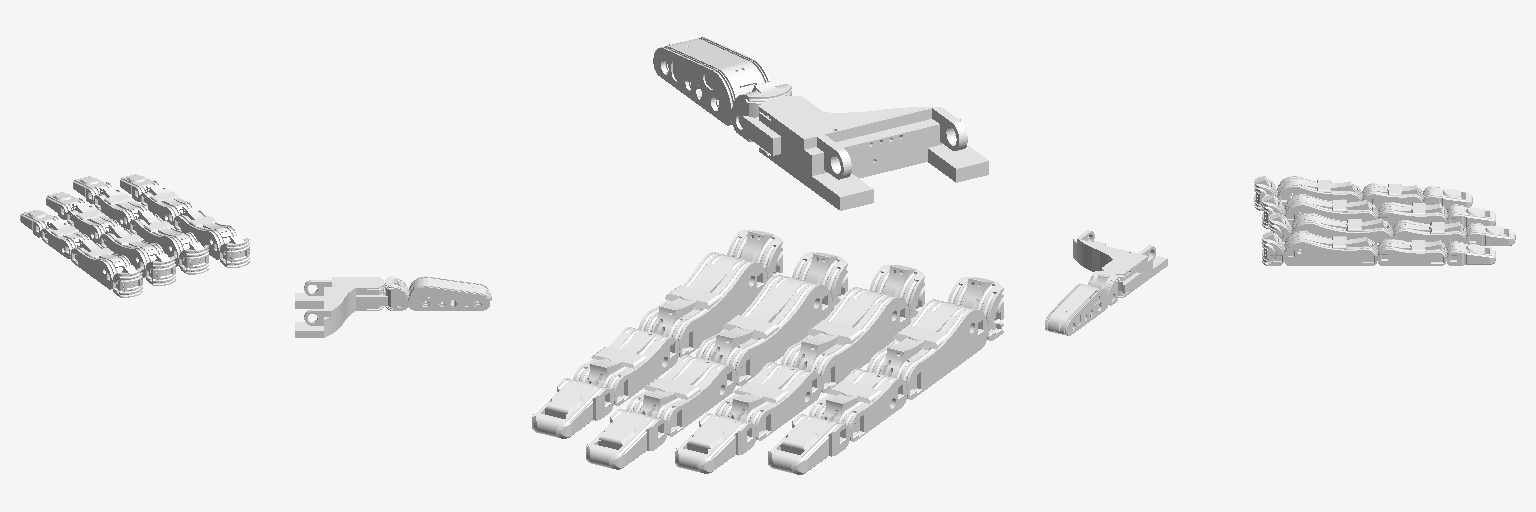
--- Facts derived from the render (not from the file) ---
The picture shows the robot from 3 angles, left to right: view 1: azimuth 30°, elevation 25°; view 2: azimuth 150°, elevation 25°; view 3: azimuth 270°, elevation 25°; orthographic projection.
Model converted_robot with 91 links and 90 joints (35 revolute, 55 fixed), rooted at world, posed all joints at 0.
Visible links, largest first — view 1: thumb_base, thumb_mp, middle_pp, pinky_pp, index_pp, ring_pp, middle_mp, ring_mp, index_mp, pinky_mp, pinky_um, ring_um (+7 smaller); view 2: thumb_base, middle_pp, ring_pp, index_pp, pinky_pp, thumb_mp, middle_mp, ring_mp, index_mp, pinky_mp, index_dp, middle_dp (+7 smaller); view 3: thumb_base, index_pp, thumb_mp, middle_pp, ring_pp, index_mp, pinky_pp, middle_mp, ring_mp, pinky_mp, index_dp, middle_dp (+4 smaller).
Boxes of the visible links, x1=… form: thumb_base: x1=295, y1=277, x2=387, y2=337; thumb_mp: x1=408, y1=276, x2=491, y2=310; middle_pp: x1=129, y1=211, x2=197, y2=266; pinky_pp: x1=70, y1=240, x2=130, y2=289; index_pp: x1=174, y1=207, x2=238, y2=259; ring_pp: x1=100, y1=225, x2=164, y2=277; middle_mp: x1=93, y1=187, x2=148, y2=229; ring_mp: x1=66, y1=203, x2=118, y2=243; index_mp: x1=140, y1=185, x2=192, y2=225; pinky_mp: x1=41, y1=220, x2=89, y2=258; pinky_um: x1=112, y1=265, x2=142, y2=297; ring_um: x1=145, y1=254, x2=175, y2=285; thumb_base: x1=743, y1=96, x2=988, y2=210; middle_pp: x1=696, y1=275, x2=831, y2=385; ring_pp: x1=781, y1=287, x2=909, y2=392; index_pp: x1=638, y1=252, x2=766, y2=357; pinky_pp: x1=866, y1=299, x2=987, y2=399; thumb_mp: x1=653, y1=37, x2=769, y2=125; middle_mp: x1=626, y1=355, x2=736, y2=436; ring_mp: x1=715, y1=362, x2=821, y2=440; index_mp: x1=573, y1=327, x2=679, y2=405; pinky_mp: x1=809, y1=368, x2=907, y2=441; index_dp: x1=532, y1=378, x2=614, y2=438; middle_dp: x1=586, y1=409, x2=667, y2=469; thumb_base: x1=1073, y1=230, x2=1167, y2=297; index_pp: x1=1284, y1=231, x2=1378, y2=265; thumb_mp: x1=1045, y1=283, x2=1108, y2=335; middle_pp: x1=1291, y1=213, x2=1393, y2=247; ring_pp: x1=1284, y1=194, x2=1378, y2=225; index_mp: x1=1377, y1=239, x2=1447, y2=265; pinky_pp: x1=1277, y1=176, x2=1362, y2=207; middle_mp: x1=1393, y1=220, x2=1466, y2=247; ring_mp: x1=1378, y1=202, x2=1447, y2=228; pinky_mp: x1=1362, y1=183, x2=1424, y2=209; index_dp: x1=1446, y1=241, x2=1495, y2=265; middle_dp: x1=1466, y1=223, x2=1515, y2=245.
Bounding box of the posed robot: 0.1606 × 0.2319 × 0.0157 m (x, y, z).
19 mesh visuals loaded from 20 distinct referenced files (19 binary STL); not drawn: 1 (reference not matched to a file when rendering).

robot.urdf — converted_robot:
<?xml version="1.0" ?>
<robot name="converted_robot">
   <link name="world">
      <inertial>
         <origin xyz="0.0 0.0 0.0" rpy="0.0 0.0 0.0"/>
         <mass value="0.0"/>
         <inertia ixx="0.0" iyy="0.0" izz="0.0" ixy="0" ixz="0" iyz="0"/>
      </inertial>
   </link>
   <link name="root">
      <inertial>
         <origin xyz="0.0 0.0 0.0" rpy="0.0 0.0 0.0"/>
         <mass value="0.0"/>
         <inertia ixx="0.0" iyy="0.0" izz="0.0" ixy="0" ixz="0" iyz="0"/>
      </inertial>
   </link>
   <link name="world2root_fixed_jointbody">
      <inertial>
         <origin xyz="0.0 0.0 0.0" rpy="0.0 0.0 0.0"/>
         <mass value="0.001"/>
         <inertia ixx="1e-09" iyy="1e-09" izz="1e-09" ixy="0" ixz="0" iyz="0"/>
      </inertial>
   </link>
   <joint type="fixed" name="world2root_fixed">
      <parent link="world"/>
      <child link="world2root_fixed_jointbody"/>
      <origin xyz="0.0 0.0 0.0" rpy="0.0 0.0 0.0"/>
   </joint>
   <joint type="fixed" name="world2root_fixed_offset">
      <parent link="world2root_fixed_jointbody"/>
      <child link="root"/>
      <origin xyz="-0.0 -0.0 -0.0" rpy="0.0 0.0 0.0"/>
   </joint>
   <link name="palm">
      <inertial>
         <origin xyz="-0.009750183589572366 0.04021403488529142 -0.00039237105510929893" rpy="2.3172560848423656 -1.562874237700241 2.192255222809746"/>
         <mass value="0.16567872925570942"/>
         <inertia ixx="0.0002358825828115673" iyy="0.00017096319828277548" izz="6.854952483029862e-05" ixy="0" ixz="0" iyz="0"/>
      </inertial>
      <visual name="palm_tower">
         <origin xyz="-0.009750183589572366 0.04021403488529142 -0.00039237105510929893" rpy="2.3172560848423656 -1.562874237700241 2.192255222809746"/>
         <geometry>
            <mesh filename="package://viz/models/URDF_Simulation/converted_palm_tower.stl"/>
         </geometry>
         <material name="white"/>
      </visual>
   </link>
   <link name="root2palm_fixed_jointbody">
      <inertial>
         <origin xyz="0.0 0.0 0.0" rpy="0.0 0.0 0.0"/>
         <mass value="0.001"/>
         <inertia ixx="1e-09" iyy="1e-09" izz="1e-09" ixy="0" ixz="0" iyz="0"/>
      </inertial>
   </link>
   <joint type="fixed" name="root2palm_fixed">
      <parent link="root"/>
      <child link="root2palm_fixed_jointbody"/>
      <origin xyz="0.0 0.0 0.0" rpy="0.0 0.0 0.0"/>
   </joint>
   <joint type="fixed" name="root2palm_fixed_offset">
      <parent link="root2palm_fixed_jointbody"/>
      <child link="palm"/>
      <origin xyz="-0.0 -0.0 -0.0" rpy="0.0 0.0 0.0"/>
   </joint>
   <link name="thumb_base">
      <inertial>
         <origin xyz="-0.05388722858794558 -0.08972924545530461 0.0056400640968846715" rpy="1.1981321937913658 -1.4948979105066997 0.7661853183228452"/>
         <mass value="0.015400950262490496"/>
         <inertia ixx="4.057013831282678e-06" iyy="3.3189900464939896e-06" izz="1.0886313012479005e-06" ixy="0" ixz="0" iyz="0"/>
      </inertial>
      <visual name="thumb_base">
         <origin xyz="-0.05388722858794558 -0.08972924545530461 0.0056400640968846715" rpy="1.1981321937913676 -1.4948979105066995 0.7661853183228434"/>
         <geometry>
            <mesh filename="package://viz/models/URDF_Simulation/converted_thumb_base.stl"/>
         </geometry>
         <material name="white"/>
      </visual>
   </link>
   <link name="root2thumb_base_jointbody">
      <inertial>
         <origin xyz="0.0 0.0 0.0" rpy="0.0 0.0 0.0"/>
         <mass value="0.001"/>
         <inertia ixx="1e-09" iyy="1e-09" izz="1e-09" ixy="0" ixz="0" iyz="0"/>
      </inertial>
   </link>
   <joint type="revolute" name="root2thumb_base">
      <parent link="palm"/>
      <child link="root2thumb_base_jointbody"/>
      <origin xyz="0.01810025051214078 0.00810024353395844 0.002000000000000001" rpy="0.0 0.0 1.5707999999999998"/>
      <axis xyz="0.872045190552692 -0.48942536267945813 0.0"/>
      <limit lower="-2.27" upper="0.0" effort="100" velocity="100"/>
   </joint>
   <joint type="fixed" name="root2thumb_base_offset">
      <parent link="root2thumb_base_jointbody"/>
      <child link="thumb_base"/>
      <origin xyz="0.0682 0.0663 -0.009" rpy="0.0 0.0 0.0"/>
   </joint>
   <link name="thumb_pp">
      <inertial>
         <origin xyz="-0.06002974424873159 -0.11906183356660797 0.0062186112018148216" rpy="-0.0012484400387758887 0.391076545340286 1.0465689521908192"/>
         <mass value="0.0020561829545655487"/>
         <inertia ixx="5.3193394084926844e-08" iyy="4.4699706473833634e-08" izz="4.1958930900945313e-08" ixy="0" ixz="0" iyz="0"/>
      </inertial>
      <visual name="thumb_pp">
         <origin xyz="-0.06002974424873159 -0.11906183356660797 0.0062186112018148216" rpy="-0.0012484400387758887 0.391076545340286 1.0465689521908192"/>
         <geometry>
            <mesh filename="package://viz/models/URDF_Simulation/converted_thumb_pp.stl"/>
         </geometry>
         <material name="white"/>
      </visual>
   </link>
   <link name="thumb_base2pp_jointbody">
      <inertial>
         <origin xyz="0.0 0.0 0.0" rpy="0.0 0.0 0.0"/>
         <mass value="0.001"/>
         <inertia ixx="1e-09" iyy="1e-09" izz="1e-09" ixy="0" ixz="0" iyz="0"/>
      </inertial>
   </link>
   <joint type="revolute" name="thumb_base2pp">
      <parent link="thumb_base"/>
      <child link="thumb_base2pp_jointbody"/>
      <origin xyz="-0.05696 -0.11383 0.0" rpy="0.0 0.0 0.0"/>
      <axis xyz="0.0 0.0 1.0"/>
      <limit lower="-0.523599" upper="0.523599" effort="100" velocity="100"/>
   </joint>
   <joint type="fixed" name="thumb_base2pp_offset">
      <parent link="thumb_base2pp_jointbody"/>
      <child link="thumb_pp"/>
      <origin xyz="0.05696 0.11383 -0.0" rpy="0.0 0.0 0.0"/>
   </joint>
   <link name="thumb_mp">
      <inertial>
         <origin xyz="-0.07285929044573305 -0.14133795432320076 0.00551798779969882" rpy="2.9311721332498637 -1.5138717843315774 -1.881310598490373"/>
         <mass value="0.007559331420198066"/>
         <inertia ixx="9.573996733464855e-07" iyy="9.284932904903027e-07" izz="1.7221260520814514e-07" ixy="0" ixz="0" iyz="0"/>
      </inertial>
      <visual name="thumb_mp">
         <origin xyz="-0.07285929044573305 -0.14133795432320076 0.00551798779969882" rpy="2.9311721332498664 -1.5138717843315772 -1.8813105984903749"/>
         <geometry>
            <mesh filename="package://viz/models/URDF_Simulation/converted_thumb_mp.stl"/>
         </geometry>
         <material name="white"/>
      </visual>
   </link>
   <link name="thumb_pp2mp_jointbody">
      <inertial>
         <origin xyz="0.0 0.0 0.0" rpy="0.0 0.0 0.0"/>
         <mass value="0.001"/>
         <inertia ixx="1e-09" iyy="1e-09" izz="1e-09" ixy="0" ixz="0" iyz="0"/>
      </inertial>
   </link>
   <joint type="revolute" name="thumb_pp2mp">
      <parent link="thumb_pp"/>
      <child link="thumb_pp2mp_jointbody"/>
      <origin xyz="-0.062947 -0.124166 0.004" rpy="0.0 0.0 0.0"/>
      <axis xyz="0.872045190552692 -0.48942536267945813 0.0"/>
      <limit lower="-1.5708" upper="0.0" effort="100" velocity="100"/>
   </joint>
   <joint type="fixed" name="thumb_pp2mp_offset">
      <parent link="thumb_pp2mp_jointbody"/>
      <child link="thumb_mp"/>
      <origin xyz="0.062947 0.124166 -0.004" rpy="0.0 0.0 0.0"/>
   </joint>
   <link name="index_um_virt">
      <inertial>
         <origin xyz="0.0 0.0 0.0" rpy="0.0 0.0 0.0"/>
         <mass value="0.001"/>
         <inertia ixx="4e-10" iyy="4e-10" izz="3e-10" ixy="0" ixz="0" iyz="0"/>
      </inertial>
   </link>
   <link name="index_abd_virt_jointbody">
      <inertial>
         <origin xyz="0.0 0.0 0.0" rpy="0.0 0.0 0.0"/>
         <mass value="0.001"/>
         <inertia ixx="1e-09" iyy="1e-09" izz="1e-09" ixy="0" ixz="0" iyz="0"/>
      </inertial>
   </link>
   <joint type="revolute" name="index_abd_virt">
      <parent link="palm"/>
      <child link="index_abd_virt_jointbody"/>
      <origin xyz="0.0250405 0.0852 0.0" rpy="-1.5707963267948966 1.5707963267948966 0.0"/>
      <axis xyz="1.0 0.0 0.0"/>
      <limit lower="-0.264" upper="0.264" effort="100" velocity="100"/>
   </joint>
   <joint type="fixed" name="index_abd_virt_offset">
      <parent link="index_abd_virt_jointbody"/>
      <child link="index_um_virt"/>
      <origin xyz="-0.0 -0.0 -0.0" rpy="0.0 0.0 0.0"/>
   </joint>
   <link name="index_um">
      <inertial>
         <origin xyz="0.0003158098365906876 -0.00022882513673609314 -0.0036213650800712305" rpy="3.11344183213456 -1.2906456267839208 -3.102620114783569"/>
         <mass value="0.0017045161564725113"/>
         <inertia ixx="4.089294671130922e-08" iyy="3.323975046971373e-08" izz="2.9482536116204133e-08" ixy="0" ixz="0" iyz="0"/>
      </inertial>
      <visual name="index_um">
         <origin xyz="0.0003158098365906876 -0.00022882513673609314 -0.0036213650800712305" rpy="3.11344183213456 -1.2906456267839206 -3.102620114783569"/>
         <geometry>
            <mesh filename="package://viz/models/URDF_Simulation/converted_index_um.stl"/>
         </geometry>
         <material name="white"/>
      </visual>
   </link>
   <link name="index_abd_jointbody">
      <inertial>
         <origin xyz="0.0 0.0 0.0" rpy="0.0 0.0 0.0"/>
         <mass value="0.001"/>
         <inertia ixx="1e-09" iyy="1e-09" izz="1e-09" ixy="0" ixz="0" iyz="0"/>
      </inertial>
   </link>
   <joint type="revolute" name="index_abd">
      <parent link="index_um_virt"/>
      <child link="index_abd_jointbody"/>
      <origin xyz="0.0 0.0 0.018" rpy="0.0 0.0 0.0"/>
      <axis xyz="1.0 0.0 0.0"/>
      <limit lower="-0.264" upper="0.264" effort="100" velocity="100"/>
   </joint>
   <joint type="fixed" name="index_abd_offset">
      <parent link="index_abd_jointbody"/>
      <child link="index_um"/>
      <origin xyz="-0.0 -0.0 -0.0" rpy="0.0 0.0 0.0"/>
   </joint>
   <link name="index_pp_virt">
      <inertial>
         <origin xyz="0.0 0.0 0.0" rpy="0.0 0.0 0.0"/>
         <mass value="0.001"/>
         <inertia ixx="4e-10" iyy="4e-10" izz="3e-10" ixy="0" ixz="0" iyz="0"/>
      </inertial>
   </link>
   <link name="root2index_pp_virt_jointbody">
      <inertial>
         <origin xyz="0.0 0.0 0.0" rpy="0.0 0.0 0.0"/>
         <mass value="0.001"/>
         <inertia ixx="1e-09" iyy="1e-09" izz="1e-09" ixy="0" ixz="0" iyz="0"/>
      </inertial>
   </link>
   <joint type="revolute" name="root2index_pp_virt">
      <parent link="index_um"/>
      <child link="root2index_pp_virt_jointbody"/>
      <origin xyz="0.00270000102 5.9952065978308155e-19 -0.00743303472" rpy="0.0 0.0 -1.5707963267948963"/>
      <axis xyz="1.0 0.0 0.0"/>
      <limit lower="-0.157" upper="0.829" effort="100" velocity="100"/>
   </joint>
   <joint type="fixed" name="root2index_pp_virt_offset">
      <parent link="root2index_pp_virt_jointbody"/>
      <child link="index_pp_virt"/>
      <origin xyz="-0.0 -0.00270000102 -0.0" rpy="0.0 0.0 0.0"/>
   </joint>
   <link name="index_pp">
      <inertial>
         <origin xyz="0.0001596722768568773 0.0010995555377848291 0.01288169966540817" rpy="-0.0005635947558751964 0.04346039485505382 1.5731856208599835"/>
         <mass value="0.006934011983539235"/>
         <inertia ixx="1.1618492939118344e-06" iyy="1.1338221765005137e-06" izz="1.5329642762575548e-07" ixy="0" ixz="0" iyz="0"/>
      </inertial>
      <visual name="index_pp">
         <origin xyz="0.0001596722768568773 0.0010995555377848291 0.01288169966540817" rpy="-0.0005635947558753074 0.0434603948550536 1.5731856208599835"/>
         <geometry>
            <mesh filename="package://viz/models/URDF_Simulation/converted_index_pp.stl"/>
         </geometry>
         <material name="white"/>
      </visual>
   </link>
   <link name="root2index_pp_jointbody">
      <inertial>
         <origin xyz="0.0 0.0 0.0" rpy="0.0 0.0 0.0"/>
         <mass value="0.001"/>
         <inertia ixx="1e-09" iyy="1e-09" izz="1e-09" ixy="0" ixz="0" iyz="0"/>
      </inertial>
   </link>
   <joint type="revolute" name="root2index_pp">
      <parent link="index_pp_virt"/>
      <child link="root2index_pp_jointbody"/>
      <origin xyz="0.0 0.00250000102 0.018" rpy="0.0 0.0 0.0"/>
      <axis xyz="1.0 0.0 0.0"/>
      <limit lower="-0.157" upper="0.829" effort="100" velocity="100"/>
   </joint>
   <joint type="fixed" name="root2index_pp_offset">
      <parent link="root2index_pp_jointbody"/>
      <child link="index_pp"/>
      <origin xyz="-0.0 -0.00250000102 -0.0" rpy="0.0 0.0 0.0"/>
   </joint>
   <link name="index_pp_sens">
      <inertial>
         <origin xyz="0.0 -0.004 0.018" rpy="0.0 0.0 0.0"/>
         <mass value="0.0"/>
         <inertia ixx="0.0" iyy="0.0" izz="0.0" ixy="0" ixz="0" iyz="0"/>
      </inertial>
   </link>
   <link name="index_pp2index_pp_sens_fixed_jointbody">
      <inertial>
         <origin xyz="0.0 0.0 0.0" rpy="0.0 0.0 0.0"/>
         <mass value="0.001"/>
         <inertia ixx="1e-09" iyy="1e-09" izz="1e-09" ixy="0" ixz="0" iyz="0"/>
      </inertial>
   </link>
   <joint type="fixed" name="index_pp2index_pp_sens_fixed">
      <parent link="index_pp"/>
      <child link="index_pp2index_pp_sens_fixed_jointbody"/>
      <origin xyz="0.0 -0.004 0.018" rpy="0.0 0.0 0.0"/>
   </joint>
   <joint type="fixed" name="index_pp2index_pp_sens_fixed_offset">
      <parent link="index_pp2index_pp_sens_fixed_jointbody"/>
      <child link="index_pp_sens"/>
      <origin xyz="-0.0 -0.0 -0.0" rpy="0.0 0.0 0.0"/>
   </joint>
   <link name="index_mp_virt">
      <inertial>
         <origin xyz="0.0 0.0 0.0" rpy="0.0 0.0 0.0"/>
         <mass value="0.001"/>
         <inertia ixx="4e-10" iyy="4e-10" izz="3e-10" ixy="0" ixz="0" iyz="0"/>
      </inertial>
   </link>
   <link name="index_pp2mp_virt_jointbody">
      <inertial>
         <origin xyz="0.0 0.0 0.0" rpy="0.0 0.0 0.0"/>
         <mass value="0.001"/>
         <inertia ixx="1e-09" iyy="1e-09" izz="1e-09" ixy="0" ixz="0" iyz="0"/>
      </inertial>
   </link>
   <joint type="revolute" name="index_pp2mp_virt">
      <parent link="index_pp"/>
      <child link="index_pp2mp_virt_jointbody"/>
      <origin xyz="0.0 0.00370000102 0.03101612481" rpy="0.0 0.0 0.0"/>
      <axis xyz="1.0 0.0 0.0"/>
      <limit lower="-0.131" upper="0.96" effort="100" velocity="100"/>
   </joint>
   <joint type="fixed" name="index_pp2mp_virt_offset">
      <parent link="index_pp2mp_virt_jointbody"/>
      <child link="index_mp_virt"/>
      <origin xyz="-0.0 -0.00370000102 -0.0" rpy="0.0 0.0 0.0"/>
   </joint>
   <link name="index_mp">
      <inertial>
         <origin xyz="0.00011615953600365228 0.002416765310794026 0.01109535507776531" rpy="0.005169070242558416 0.005498569028424383 1.568902720116945"/>
         <mass value="0.00391743874952473"/>
         <inertia ixx="3.710686435522325e-07" iyy="3.400719694509783e-07" izz="7.116706680564789e-08" ixy="0" ixz="0" iyz="0"/>
      </inertial>
      <visual name="index_mp">
         <origin xyz="0.00011615953600365228 0.002416765310794026 0.01109535507776531" rpy="0.005169070242558416 0.005498569028424383 1.568902720116945"/>
         <geometry>
            <mesh filename="package://viz/models/URDF_Simulation/converted_index_mp.stl"/>
         </geometry>
         <material name="white"/>
      </visual>
   </link>
   <link name="index_pp2mp_jointbody">
      <inertial>
         <origin xyz="0.0 0.0 0.0" rpy="0.0 0.0 0.0"/>
         <mass value="0.001"/>
         <inertia ixx="1e-09" iyy="1e-09" izz="1e-09" ixy="0" ixz="0" iyz="0"/>
      </inertial>
   </link>
   <joint type="revolute" name="index_pp2mp">
      <parent link="index_mp_virt"/>
      <child link="index_pp2mp_jointbody"/>
      <origin xyz="0.0 0.00350000102 0.012" rpy="0.0 0.0 0.0"/>
      <axis xyz="1.0 0.0 0.0"/>
      <limit lower="-0.131" upper="0.96" effort="100" velocity="100"/>
   </joint>
   <joint type="fixed" name="index_pp2mp_offset">
      <parent link="index_pp2mp_jointbody"/>
      <child link="index_mp"/>
      <origin xyz="-0.0 -0.00350000102 -0.0" rpy="0.0 0.0 0.0"/>
   </joint>
   <link name="index_dp_virt">
      <inertial>
         <origin xyz="0.0 0.0 0.0" rpy="0.0 0.0 0.0"/>
         <mass value="0.001"/>
         <inertia ixx="4e-10" iyy="4e-10" izz="3e-10" ixy="0" ixz="0" iyz="0"/>
      </inertial>
   </link>
   <link name="index_mp2dp_virt_jointbody">
      <inertial>
         <origin xyz="0.0 0.0 0.0" rpy="0.0 0.0 0.0"/>
         <mass value="0.001"/>
         <inertia ixx="1e-09" iyy="1e-09" izz="1e-09" ixy="0" ixz="0" iyz="0"/>
      </inertial>
   </link>
   <joint type="revolute" name="index_mp2dp_virt">
      <parent link="index_mp"/>
      <child link="index_mp2dp_virt_jointbody"/>
      <origin xyz="0.0 0.00370000102 0.0235" rpy="0.0 0.0 0.0"/>
      <axis xyz="1.0 0.0 0.0"/>
      <limit lower="-0.093" upper="0.682" effort="100" velocity="100"/>
   </joint>
   <joint type="fixed" name="index_mp2dp_virt_offset">
      <parent link="index_mp2dp_virt_jointbody"/>
      <child link="index_dp_virt"/>
      <origin xyz="-0.0 -0.00370000102 -0.0" rpy="0.0 0.0 0.0"/>
   </joint>
   <link name="index_dp">
      <inertial>
         <origin xyz="0.00011951811090689032 0.003120678557622198 0.007573116228122234" rpy="-0.001893780008492163 0.05085216250260771 1.5852087171365512"/>
         <mass value="0.0021639273972605794"/>
         <inertia ixx="1.0745931609543126e-07" iyy="9.222697287325353e-08" izz="2.9490220566203e-08" ixy="0" ixz="0" iyz="0"/>
      </inertial>
      <visual name="index_dp">
         <origin xyz="0.00011951811090689032 0.003120678557622198 0.007573116228122234" rpy="-0.001893780008492163 0.05085216250260771 1.5852087171365514"/>
         <geometry>
            <mesh filename="package://viz/models/URDF_Simulation/converted_index_dp.stl"/>
         </geometry>
         <material name="white"/>
      </visual>
   </link>
   <link name="index_mp2dp_jointbody">
      <inertial>
         <origin xyz="0.0 0.0 0.0" rpy="0.0 0.0 0.0"/>
         <mass value="0.001"/>
         <inertia ixx="1e-09" iyy="1e-09" izz="1e-09" ixy="0" ixz="0" iyz="0"/>
      </inertial>
   </link>
   <joint type="revolute" name="index_mp2dp">
      <parent link="index_dp_virt"/>
      <child link="index_mp2dp_jointbody"/>
      <origin xyz="0.0 0.00350000102 0.009" rpy="0.0 0.0 0.0"/>
      <axis xyz="1.0 0.0 0.0"/>
      <limit lower="-0.093" upper="0.682" effort="100" velocity="100"/>
   </joint>
   <joint type="fixed" name="index_mp2dp_offset">
      <parent link="index_mp2dp_jointbody"/>
      <child link="index_dp"/>
      <origin xyz="-0.0 -0.00350000102 -0.0" rpy="0.0 0.0 0.0"/>
   </joint>
   <link name="index_fingertip">
      <inertial>
         <origin xyz="0.0 0.0 0.01" rpy="0.0 0.0 0.0"/>
         <mass value="0.0"/>
         <inertia ixx="0.0" iyy="0.0" izz="0.0" ixy="0" ixz="0" iyz="0"/>
      </inertial>
   </link>
   <link name="index_dp2index_fingertip_fixed_jointbody">
      <inertial>
         <origin xyz="0.0 0.0 0.0" rpy="0.0 0.0 0.0"/>
         <mass value="0.001"/>
         <inertia ixx="1e-09" iyy="1e-09" izz="1e-09" ixy="0" ixz="0" iyz="0"/>
      </inertial>
   </link>
   <joint type="fixed" name="index_dp2index_fingertip_fixed">
      <parent link="index_dp"/>
      <child link="index_dp2index_fingertip_fixed_jointbody"/>
      <origin xyz="0.0 0.0 0.01" rpy="0.0 0.0 0.0"/>
   </joint>
   <joint type="fixed" name="index_dp2index_fingertip_fixed_offset">
      <parent link="index_dp2index_fingertip_fixed_jointbody"/>
      <child link="index_fingertip"/>
      <origin xyz="-0.0 -0.0 -0.0" rpy="0.0 0.0 0.0"/>
   </joint>
   <link name="middle_um_virt">
      <inertial>
         <origin xyz="0.0 0.0 0.0" rpy="0.0 0.0 0.0"/>
         <mass value="0.001"/>
         <inertia ixx="4e-10" iyy="4e-10" izz="3e-10" ixy="0" ixz="0" iyz="0"/>
      </inertial>
   </link>
   <link name="middle_abd_virt_jointbody">
      <inertial>
         <origin xyz="0.0 0.0 0.0" rpy="0.0 0.0 0.0"/>
         <mass value="0.001"/>
         <inertia ixx="1e-09" iyy="1e-09" izz="1e-09" ixy="0" ixz="0" iyz="0"/>
      </inertial>
   </link>
   <joint type="revolute" name="middle_abd_virt">
      <parent link="palm"/>
      <child link="middle_abd_virt_jointbody"/>
      <origin xyz="0.0036 0.0886 0.0" rpy="-1.5707963267948966 1.5707963267948966 0.0"/>
      <axis xyz="1.0 0.0 0.0"/>
      <limit lower="-0.264" upper="0.264" effort="100" velocity="100"/>
   </joint>
   <joint type="fixed" name="middle_abd_virt_offset">
      <parent link="middle_abd_virt_jointbody"/>
      <child link="middle_um_virt"/>
      <origin xyz="-0.0 -0.0 -0.0" rpy="0.0 0.0 0.0"/>
   </joint>
   <link name="middle_um">
      <inertial>
         <origin xyz="0.0003169177085226183 -4.3580464142454146e-05 -0.00358903262860973" rpy="3.1142767042476764 -1.2906066346792464 -3.101151560580364"/>
         <mass value="0.0017047365062490877"/>
         <inertia ixx="4.089764222360987e-08" iyy="3.324524824350021e-08" izz="2.9498620771363934e-08" ixy="0" ixz="0" iyz="0"/>
      </inertial>
      <visual name="middle_um">
         <origin xyz="0.0003169177085226183 -4.3580464142454146e-05 -0.00358903262860973" rpy="3.1142767042476764 -1.2906066346792464 -3.101151560580364"/>
         <geometry>
            <mesh filename="package://viz/models/URDF_Simulation/converted_middle_um.stl"/>
         </geometry>
         <material name="white"/>
      </visual>
   </link>
   <link name="middle_abd_jointbody">
      <inertial>
         <origin xyz="0.0 0.0 0.0" rpy="0.0 0.0 0.0"/>
         <mass value="0.001"/>
         <inertia ixx="1e-09" iyy="1e-09" izz="1e-09" ixy="0" ixz="0" iyz="0"/>
      </inertial>
   </link>
   <joint type="revolute" name="middle_abd">
      <parent link="middle_um_virt"/>
      <child link="middle_abd_jointbody"/>
      <origin xyz="0.0 0.0 0.018" rpy="0.0 0.0 0.0"/>
      <axis xyz="1.0 0.0 0.0"/>
      <limit lower="-0.264" upper="0.264" effort="100" velocity="100"/>
   </joint>
   <joint type="fixed" name="middle_abd_offset">
      <parent link="middle_abd_jointbody"/>
      <child link="middle_um"/>
      <origin xyz="-0.0 -0.0 -0.0" rpy="0.0 0.0 0.0"/>
   </joint>
   <link name="middle_pp_virt">
      <inertial>
         <origin xyz="0.0 0.0 0.0" rpy="0.0 0.0 0.0"/>
         <mass value="0.001"/>
         <inertia ixx="4e-10" iyy="4e-10" izz="3e-10" ixy="0" ixz="0" iyz="0"/>
      </inertial>
   </link>
   <link name="root2middle_pp_virt_jointbody">
      <inertial>
         <origin xyz="0.0 0.0 0.0" rpy="0.0 0.0 0.0"/>
         <mass value="0.001"/>
         <inertia ixx="1e-09" iyy="1e-09" izz="1e-09" ixy="0" ixz="0" iyz="0"/>
      </inertial>
   </link>
   <joint type="revolute" name="root2middle_pp_virt">
      <parent link="middle_um"/>
      <child link="root2middle_pp_virt_jointbody"/>
      <origin xyz="0.002700001023199999 5.99520660493624e-19 -0.00743303472" rpy="0.0 0.0 -1.5707963267948963"/>
      <axis xyz="1.0 0.0 0.0"/>
      <limit lower="-0.157" upper="0.829" effort="100" velocity="100"/>
   </joint>
   <joint type="fixed" name="root2middle_pp_virt_offset">
      <parent link="root2middle_pp_virt_jointbody"/>
      <child link="middle_pp_virt"/>
      <origin xyz="-0.0 -0.002700001023199999 -0.0" rpy="0.0 0.0 0.0"/>
   </joint>
   <link name="middle_pp">
      <inertial>
         <origin xyz="-2.677702921494884e-05 0.0012083795875931697 0.014736324701324952" rpy="-0.0005735052637568794 0.041263774699739963 1.57485854430987"/>
         <mass value="0.007431440532107334"/>
         <inertia ixx="1.4952081907729184e-06" iyy="1.4626277055074752e-06" izz="1.6114556634419006e-07" ixy="0" ixz="0" iyz="0"/>
      </inertial>
      <visual name="middle_pp">
         <origin xyz="-2.677702921494884e-05 0.0012083795875931697 0.014736324701324952" rpy="-0.0005735052637568794 0.041263774699739963 1.57485854430987"/>
         <geometry>
            <mesh filename="package://viz/models/URDF_Simulation/converted_middle_pp.stl"/>
         </geometry>
         <material name="white"/>
      </visual>
   </link>
   <link name="root2middle_pp_jointbody">
      <inertial>
         <origin xyz="0.0 0.0 0.0" rpy="0.0 0.0 0.0"/>
         <mass value="0.001"/>
         <inertia ixx="1e-09" iyy="1e-09" izz="1e-09" ixy="0" ixz="0" iyz="0"/>
      </inertial>
   </link>
   <joint type="revolute" name="root2middle_pp">
      <parent link="middle_pp_virt"/>
      <child link="root2middle_pp_jointbody"/>
      <origin xyz="0.0 0.002500001023199999 0.018" rpy="0.0 0.0 0.0"/>
      <axis xyz="1.0 0.0 0.0"/>
      <limit lower="-0.157" upper="0.829" effort="100" velocity="100"/>
   </joint>
   <joint type="fixed" name="root2middle_pp_offset">
      <parent link="root2middle_pp_jointbody"/>
      <child link="middle_pp"/>
      <origin xyz="-0.0 -0.002500001023199999 -0.0" rpy="0.0 0.0 0.0"/>
   </joint>
   <link name="middle_pp_sens">
      <inertial>
         <origin xyz="0.0 -0.004 0.022" rpy="0.0 0.0 0.0"/>
         <mass value="0.0"/>
         <inertia ixx="0.0" iyy="0.0" izz="0.0" ixy="0" ixz="0" iyz="0"/>
      </inertial>
   </link>
   <link name="middle_pp2middle_pp_sens_fixed_jointbody">
      <inertial>
         <origin xyz="0.0 0.0 0.0" rpy="0.0 0.0 0.0"/>
         <mass value="0.001"/>
         <inertia ixx="1e-09" iyy="1e-09" izz="1e-09" ixy="0" ixz="0" iyz="0"/>
      </inertial>
   </link>
   <joint type="fixed" name="middle_pp2middle_pp_sens_fixed">
      <parent link="middle_pp"/>
      <child link="middle_pp2middle_pp_sens_fixed_jointbody"/>
      <origin xyz="0.0 -0.004 0.022" rpy="0.0 0.0 0.0"/>
   </joint>
   <joint type="fixed" name="middle_pp2middle_pp_sens_fixed_offset">
      <parent link="middle_pp2middle_pp_sens_fixed_jointbody"/>
      <child link="middle_pp_sens"/>
      <origin xyz="-0.0 -0.0 -0.0" rpy="0.0 0.0 0.0"/>
   </joint>
   <link name="middle_mp_virt">
      <inertial>
         <origin xyz="0.0 0.0 0.0" rpy="0.0 0.0 0.0"/>
         <mass value="0.001"/>
         <inertia ixx="4e-10" iyy="4e-10" izz="3e-10" ixy="0" ixz="0" iyz="0"/>
      </inertial>
   </link>
   <link name="middle_pp2mp_virt_jointbody">
      <inertial>
         <origin xyz="0.0 0.0 0.0" rpy="0.0 0.0 0.0"/>
         <mass value="0.001"/>
         <inertia ixx="1e-09" iyy="1e-09" izz="1e-09" ixy="0" ixz="0" iyz="0"/>
      </inertial>
   </link>
   <joint type="revolute" name="middle_pp2mp_virt">
      <parent link="middle_pp"/>
      <child link="middle_pp2mp_virt_jointbody"/>
      <origin xyz="0.0 0.0037000000000999996 0.03501428277" rpy="0.0 0.0 0.0"/>
      <axis xyz="1.0 0.0 0.0"/>
      <limit lower="-0.131" upper="0.96" effort="100" velocity="100"/>
   </joint>
   <joint type="fixed" name="middle_pp2mp_virt_offset">
      <parent link="middle_pp2mp_virt_jointbody"/>
      <child link="middle_mp_virt"/>
      <origin xyz="-0.0 -0.0037000000000999996 -0.0" rpy="0.0 0.0 0.0"/>
   </joint>
   <link name="middle_mp">
      <inertial>
         <origin xyz="-7.28956068113046e-05 0.002462634567765748 0.01217139362029477" rpy="0.004902958340904706 0.004923370489530621 1.569477804197481"/>
         <mass value="0.004122015435614137"/>
         <inertia ixx="4.381415089977954e-07" iyy="4.050525829693079e-07" izz="7.452990013142263e-08" ixy="0" ixz="0" iyz="0"/>
      </inertial>
      <visual name="middle_mp">
         <origin xyz="-7.28956068113046e-05 0.002462634567765748 0.01217139362029477" rpy="0.004902958340904706 0.004923370489530621 1.569477804197481"/>
         <geometry>
            <mesh filename="package://viz/models/URDF_Simulation/converted_middle_mp.stl"/>
         </geometry>
         <material name="white"/>
      </visual>
   </link>
   <link name="middle_pp2mp_jointbody">
      <inertial>
         <origin xyz="0.0 0.0 0.0" rpy="0.0 0.0 0.0"/>
         <mass value="0.001"/>
         <inertia ixx="1e-09" iyy="1e-09" izz="1e-09" ixy="0" ixz="0" iyz="0"/>
      </inertial>
   </link>
   <joint type="revolute" name="middle_pp2mp">
      <parent link="middle_mp_virt"/>
      <child link="middle_pp2mp_jointbody"/>
      <origin xyz="0.0 0.0035000000000999995 0.012" rpy="0.0 0.0 0.0"/>
      <axis xyz="1.0 0.0 0.0"/>
      <limit lower="-0.131" upper="0.96" effort="100" velocity="100"/>
   </joint>
   <joint type="fixed" name="middle_pp2mp_offset">
      <parent link="middle_pp2mp_jointbody"/>
      <child link="middle_mp"/>
      <origin xyz="-0.0 -0.0035000000000999995 -0.0" rpy="0.0 0.0 0.0"/>
   </joint>
   <link name="middle_dp_virt">
      <inertial>
         <origin xyz="0.0 0.0 0.0" rpy="0.0 0.0 0.0"/>
         <mass value="0.001"/>
         <inertia ixx="4e-10" iyy="4e-10" izz="3e-10" ixy="0" ixz="0" iyz="0"/>
      </inertial>
   </link>
   <link name="middle_mp2dp_virt_jointbody">
      <inertial>
         <origin xyz="0.0 0.0 0.0" rpy="0.0 0.0 0.0"/>
         <mass value="0.001"/>
         <inertia ixx="1e-09" iyy="1e-09" izz="1e-09" ixy="0" ixz="0" iyz="0"/>
      </inertial>
   </link>
   <joint type="revolute" name="middle_mp2dp_virt">
      <parent link="middle_mp"/>
      <child link="middle_mp2dp_virt_jointbody"/>
      <origin xyz="0.0 0.0037000000000999996 0.0255" rpy="0.0 0.0 0.0"/>
      <axis xyz="1.0 0.0 0.0"/>
      <limit lower="-0.093" upper="0.682" effort="100" velocity="100"/>
   </joint>
   <joint type="fixed" name="middle_mp2dp_virt_offset">
      <parent link="middle_mp2dp_virt_jointbody"/>
      <child link="middle_dp_virt"/>
      <origin xyz="-0.0 -0.0037000000000999996 -0.0" rpy="0.0 0.0 0.0"/>
   </joint>
   <link name="middle_dp">
      <inertial>
         <origin xyz="3.0280177180663673e-05 0.0031179204392796566 0.0076814262845085746" rpy="0.00823787222220096 0.050673311372765095 1.5580538179925818"/>
         <mass value="0.002165187096269976"/>
         <inertia ixx="1.0756444680126282e-07" iyy="9.22710567268227e-08" izz="2.9564221225540638e-08" ixy="0" ixz="0" iyz="0"/>
      </inertial>
      <visual name="middle_dp">
         <origin xyz="3.0280177180663673e-05 0.0031179204392796566 0.0076814262845085746" rpy="0.00823787222220096 0.050673311372765095 1.5580538179925818"/>
         <geometry>
            <mesh filename="package://viz/models/URDF_Simulation/converted_middle_dp.stl"/>
         </geometry>
         <material name="white"/>
      </visual>
   </link>
   <link name="middle_mp2dp_jointbody">
      <inertial>
         <origin xyz="0.0 0.0 0.0" rpy="0.0 0.0 0.0"/>
         <mass value="0.001"/>
         <inertia ixx="1e-09" iyy="1e-09" izz="1e-09" ixy="0" ixz="0" iyz="0"/>
      </inertial>
   </link>
   <joint type="revolute" name="middle_mp2dp">
      <parent link="middle_dp_virt"/>
      <child link="middle_mp2dp_jointbody"/>
      <origin xyz="0.0 0.0035000000000999995 0.009" rpy="0.0 0.0 0.0"/>
      <axis xyz="1.0 0.0 0.0"/>
      <limit lower="-0.093" upper="0.682" effort="100" velocity="100"/>
   </joint>
   <joint type="fixed" name="middle_mp2dp_offset">
      <parent link="middle_mp2dp_jointbody"/>
      <child link="middle_dp"/>
      <origin xyz="-0.0 -0.0035000000000999995 -0.0" rpy="0.0 0.0 0.0"/>
   </joint>
   <link name="middle_fingertip">
      <inertial>
         <origin xyz="0.0 0.0 0.01" rpy="0.0 0.0 0.0"/>
         <mass value="0.0"/>
         <inertia ixx="0.0" iyy="0.0" izz="0.0" ixy="0" ixz="0" iyz="0"/>
      </inertial>
   </link>
   <link name="middle_dp2middle_fingertip_fixed_jointbody">
      <inertial>
         <origin xyz="0.0 0.0 0.0" rpy="0.0 0.0 0.0"/>
         <mass value="0.001"/>
         <inertia ixx="1e-09" iyy="1e-09" izz="1e-09" ixy="0" ixz="0" iyz="0"/>
      </inertial>
   </link>
   <joint type="fixed" name="middle_dp2middle_fingertip_fixed">
      <parent link="middle_dp"/>
      <child link="middle_dp2middle_fingertip_fixed_jointbody"/>
      <origin xyz="0.0 0.0 0.01" rpy="0.0 0.0 0.0"/>
   </joint>
   <joint type="fixed" name="middle_dp2middle_fingertip_fixed_offset">
      <parent link="middle_dp2middle_fingertip_fixed_jointbody"/>
      <child link="middle_fingertip"/>
      <origin xyz="-0.0 -0.0 -0.0" rpy="0.0 0.0 0.0"/>
   </joint>
   <link name="ring_um_virt">
      <inertial>
         <origin xyz="0.0 0.0 0.0" rpy="0.0 0.0 0.0"/>
         <mass value="0.001"/>
         <inertia ixx="4e-10" iyy="4e-10" izz="3e-10" ixy="0" ixz="0" iyz="0"/>
      </inertial>
   </link>
   <link name="ring_abd_virt_jointbody">
      <inertial>
         <origin xyz="0.0 0.0 0.0" rpy="0.0 0.0 0.0"/>
         <mass value="0.001"/>
         <inertia ixx="1e-09" iyy="1e-09" izz="1e-09" ixy="0" ixz="0" iyz="0"/>
      </inertial>
   </link>
   <joint type="revolute" name="ring_abd_virt">
      <parent link="palm"/>
      <child link="ring_abd_virt_jointbody"/>
      <origin xyz="-0.017817999999999997 0.0852 0.0" rpy="-1.5707963267948966 1.5707963267948966 0.0"/>
      <axis xyz="1.0 0.0 0.0"/>
      <limit lower="-0.264" upper="0.264" effort="100" velocity="100"/>
   </joint>
   <joint type="fixed" name="ring_abd_virt_offset">
      <parent link="ring_abd_virt_jointbody"/>
      <child link="ring_um_virt"/>
      <origin xyz="-0.0 -0.0 -0.0" rpy="0.0 0.0 0.0"/>
   </joint>
   <link name="ring_um">
      <inertial>
         <origin xyz="0.00031526315659068625 -4.483507673610013e-05 -0.0035895413100712256" rpy="3.1134418321345594 -1.2906456267839208 -3.1026201147835684"/>
         <mass value="0.0017045161564725113"/>
         <inertia ixx="4.089294671130922e-08" iyy="3.323975046971373e-08" izz="2.9482536116204133e-08" ixy="0" ixz="0" iyz="0"/>
      </inertial>
      <visual name="ring_um">
         <origin xyz="0.00031526315659068625 -4.483507673610013e-05 -0.0035895413100712256" rpy="3.11344183213456 -1.2906456267839206 -3.102620114783569"/>
         <geometry>
            <mesh filename="package://viz/models/URDF_Simulation/converted_ring_um.stl"/>
         </geometry>
         <material name="white"/>
      </visual>
   </link>
   <link name="ring_abd_jointbody">
      <inertial>
         <origin xyz="0.0 0.0 0.0" rpy="0.0 0.0 0.0"/>
         <mass value="0.001"/>
         <inertia ixx="1e-09" iyy="1e-09" izz="1e-09" ixy="0" ixz="0" iyz="0"/>
      </inertial>
   </link>
   <joint type="revolute" name="ring_abd">
      <parent link="ring_um_virt"/>
      <child link="ring_abd_jointbody"/>
      <origin xyz="0.0 0.0 0.018" rpy="0.0 0.0 0.0"/>
      <axis xyz="1.0 0.0 0.0"/>
      <limit lower="-0.264" upper="0.264" effort="100" velocity="100"/>
   </joint>
   <joint type="fixed" name="ring_abd_offset">
      <parent link="ring_abd_jointbody"/>
      <child link="ring_um"/>
      <origin xyz="-0.0 -0.0 -0.0" rpy="0.0 0.0 0.0"/>
   </joint>
   <link name="ring_pp_virt">
      <inertial>
         <origin xyz="0.0 0.0 0.0" rpy="0.0 0.0 0.0"/>
         <mass value="0.001"/>
         <inertia ixx="4e-10" iyy="4e-10" izz="3e-10" ixy="0" ixz="0" iyz="0"/>
      </inertial>
   </link>
   <link name="root2ring_pp_virt_jointbody">
      <inertial>
         <origin xyz="0.0 0.0 0.0" rpy="0.0 0.0 0.0"/>
         <mass value="0.001"/>
         <inertia ixx="1e-09" iyy="1e-09" izz="1e-09" ixy="0" ixz="0" iyz="0"/>
      </inertial>
   </link>
   <joint type="revolute" name="root2ring_pp_virt">
      <parent link="ring_um"/>
      <child link="root2ring_pp_virt_jointbody"/>
      <origin xyz="0.002700001023199999 5.99520660493624e-19 -0.00743303472" rpy="0.0 0.0 -1.5707963267948963"/>
      <axis xyz="1.0 0.0 0.0"/>
      <limit lower="-0.157" upper="0.829" effort="100" velocity="100"/>
   </joint>
   <joint type="fixed" name="root2ring_pp_virt_offset">
      <parent link="root2ring_pp_virt_jointbody"/>
      <child link="ring_pp_virt"/>
      <origin xyz="-0.0 -0.002700001023199999 -0.0" rpy="0.0 0.0 0.0"/>
   </joint>
   <link name="ring_pp">
      <inertial>
         <origin xyz="-2.4317783143122662e-05 0.0010990088577848291 0.012970488715408169" rpy="-0.0005635947558751964 0.04346039485505382 1.5731856208599835"/>
         <mass value="0.006934011983539235"/>
         <inertia ixx="1.1618492939118344e-06" iyy="1.1338221765005137e-06" izz="1.5329642762575548e-07" ixy="0" ixz="0" iyz="0"/>
      </inertial>
      <visual name="ring_pp">
         <origin xyz="-2.4317783143122662e-05 0.0010990088577848291 0.012970488715408169" rpy="-0.0005635947558753074 0.0434603948550536 1.5731856208599835"/>
         <geometry>
            <mesh filename="package://viz/models/URDF_Simulation/converted_ring_pp.stl"/>
         </geometry>
         <material name="white"/>
      </visual>
   </link>
   <link name="root2ring_pp_jointbody">
      <inertial>
         <origin xyz="0.0 0.0 0.0" rpy="0.0 0.0 0.0"/>
         <mass value="0.001"/>
         <inertia ixx="1e-09" iyy="1e-09" izz="1e-09" ixy="0" ixz="0" iyz="0"/>
      </inertial>
   </link>
   <joint type="revolute" name="root2ring_pp">
      <parent link="ring_pp_virt"/>
      <child link="root2ring_pp_jointbody"/>
      <origin xyz="0.0 0.002500001023199999 0.018" rpy="0.0 0.0 0.0"/>
      <axis xyz="1.0 0.0 0.0"/>
      <limit lower="-0.157" upper="0.829" effort="100" velocity="100"/>
   </joint>
   <joint type="fixed" name="root2ring_pp_offset">
      <parent link="root2ring_pp_jointbody"/>
      <child link="ring_pp"/>
      <origin xyz="-0.0 -0.002500001023199999 -0.0" rpy="0.0 0.0 0.0"/>
   </joint>
   <link name="ring_pp_sens">
      <inertial>
         <origin xyz="0.0 -0.004 0.018" rpy="0.0 0.0 0.0"/>
         <mass value="0.0"/>
         <inertia ixx="0.0" iyy="0.0" izz="0.0" ixy="0" ixz="0" iyz="0"/>
      </inertial>
   </link>
   <link name="ring_pp2ring_pp_sens_fixed_jointbody">
      <inertial>
         <origin xyz="0.0 0.0 0.0" rpy="0.0 0.0 0.0"/>
         <mass value="0.001"/>
         <inertia ixx="1e-09" iyy="1e-09" izz="1e-09" ixy="0" ixz="0" iyz="0"/>
      </inertial>
   </link>
   <joint type="fixed" name="ring_pp2ring_pp_sens_fixed">
      <parent link="ring_pp"/>
      <child link="ring_pp2ring_pp_sens_fixed_jointbody"/>
      <origin xyz="0.0 -0.004 0.018" rpy="0.0 0.0 0.0"/>
   </joint>
   <joint type="fixed" name="ring_pp2ring_pp_sens_fixed_offset">
      <parent link="ring_pp2ring_pp_sens_fixed_jointbody"/>
      <child link="ring_pp_sens"/>
      <origin xyz="-0.0 -0.0 -0.0" rpy="0.0 0.0 0.0"/>
   </joint>
   <link name="ring_mp_virt">
      <inertial>
         <origin xyz="0.0 0.0 0.0" rpy="0.0 0.0 0.0"/>
         <mass value="0.001"/>
         <inertia ixx="4e-10" iyy="4e-10" izz="3e-10" ixy="0" ixz="0" iyz="0"/>
      </inertial>
   </link>
   <link name="ring_pp2mp_virt_jointbody">
      <inertial>
         <origin xyz="0.0 0.0 0.0" rpy="0.0 0.0 0.0"/>
         <mass value="0.001"/>
         <inertia ixx="1e-09" iyy="1e-09" izz="1e-09" ixy="0" ixz="0" iyz="0"/>
      </inertial>
   </link>
   <joint type="revolute" name="ring_pp2mp_virt">
      <parent link="ring_pp"/>
      <child link="ring_pp2mp_virt_jointbody"/>
      <origin xyz="0.0 0.0037000000000999996 0.03101612481" rpy="0.0 0.0 0.0"/>
      <axis xyz="1.0 0.0 0.0"/>
      <limit lower="-0.131" upper="0.96" effort="100" velocity="100"/>
   </joint>
   <joint type="fixed" name="ring_pp2mp_virt_offset">
      <parent link="ring_pp2mp_virt_jointbody"/>
      <child link="ring_mp_virt"/>
      <origin xyz="-0.0 -0.0037000000000999996 -0.0" rpy="0.0 0.0 0.0"/>
   </joint>
   <link name="ring_mp">
      <inertial>
         <origin xyz="-6.783052399634767e-05 0.002416218630794026 0.011184144137765306" rpy="0.005169070242558416 0.005498569028424383 1.568902720116945"/>
         <mass value="0.00391743874952473"/>
         <inertia ixx="3.710686435522325e-07" iyy="3.400719694509783e-07" izz="7.116706680564789e-08" ixy="0" ixz="0" iyz="0"/>
      </inertial>
      <visual name="ring_mp">
         <origin xyz="-6.783052399634767e-05 0.002416218630794026 0.011184144137765306" rpy="0.005169070242558416 0.005498569028424383 1.568902720116945"/>
         <geometry>
            <mesh filename="package://viz/models/URDF_Simulation/converted_ring_mp.stl"/>
         </geometry>
         <material name="white"/>
      </visual>
   </link>
   <link name="ring_pp2mp_jointbody">
      <inertial>
         <origin xyz="0.0 0.0 0.0" rpy="0.0 0.0 0.0"/>
         <mass value="0.001"/>
         <inertia ixx="1e-09" iyy="1e-09" izz="1e-09" ixy="0" ixz="0" iyz="0"/>
      </inertial>
   </link>
   <joint type="revolute" name="ring_pp2mp">
      <parent link="ring_mp_virt"/>
      <child link="ring_pp2mp_jointbody"/>
      <origin xyz="0.0 0.0035000000000999995 0.012" rpy="0.0 0.0 0.0"/>
      <axis xyz="1.0 0.0 0.0"/>
      <limit lower="-0.131" upper="0.96" effort="100" velocity="100"/>
   </joint>
   <joint type="fixed" name="ring_pp2mp_offset">
      <parent link="ring_pp2mp_jointbody"/>
      <child link="ring_mp"/>
      <origin xyz="-0.0 -0.0035000000000999995 -0.0" rpy="0.0 0.0 0.0"/>
   </joint>
   <link name="ring_dp_virt">
      <inertial>
         <origin xyz="0.0 0.0 0.0" rpy="0.0 0.0 0.0"/>
         <mass value="0.001"/>
         <inertia ixx="4e-10" iyy="4e-10" izz="3e-10" ixy="0" ixz="0" iyz="0"/>
      </inertial>
   </link>
   <link name="ring_mp2dp_virt_jointbody">
      <inertial>
         <origin xyz="0.0 0.0 0.0" rpy="0.0 0.0 0.0"/>
         <mass value="0.001"/>
         <inertia ixx="1e-09" iyy="1e-09" izz="1e-09" ixy="0" ixz="0" iyz="0"/>
      </inertial>
   </link>
   <joint type="revolute" name="ring_mp2dp_virt">
      <parent link="ring_mp"/>
      <child link="ring_mp2dp_virt_jointbody"/>
      <origin xyz="0.0 0.0037000000000999996 0.0235" rpy="0.0 0.0 0.0"/>
      <axis xyz="1.0 0.0 0.0"/>
      <limit lower="-0.093" upper="0.682" effort="100" velocity="100"/>
   </joint>
   <joint type="fixed" name="ring_mp2dp_virt_offset">
      <parent link="ring_mp2dp_virt_jointbody"/>
      <child link="ring_dp_virt"/>
      <origin xyz="-0.0 -0.0037000000000999996 -0.0" rpy="0.0 0.0 0.0"/>
   </joint>
   <link name="ring_dp">
      <inertial>
         <origin xyz="-6.447194909310963e-05 0.003120131877622198 0.007661905288122245" rpy="-0.001893780008492163 0.05085216250260771 1.5852087171365512"/>
         <mass value="0.0021639273972605794"/>
         <inertia ixx="1.0745931609543126e-07" iyy="9.222697287325353e-08" izz="2.9490220566203e-08" ixy="0" ixz="0" iyz="0"/>
      </inertial>
      <visual name="ring_dp">
         <origin xyz="-6.447194909310963e-05 0.003120131877622198 0.007661905288122245" rpy="-0.001893780008492163 0.05085216250260771 1.5852087171365514"/>
         <geometry>
            <mesh filename="package://viz/models/URDF_Simulation/converted_ring_dp.stl"/>
         </geometry>
         <material name="white"/>
      </visual>
   </link>
   <link name="ring_mp2dp_jointbody">
      <inertial>
         <origin xyz="0.0 0.0 0.0" rpy="0.0 0.0 0.0"/>
         <mass value="0.001"/>
         <inertia ixx="1e-09" iyy="1e-09" izz="1e-09" ixy="0" ixz="0" iyz="0"/>
      </inertial>
   </link>
   <joint type="revolute" name="ring_mp2dp">
      <parent link="ring_dp_virt"/>
      <child link="ring_mp2dp_jointbody"/>
      <origin xyz="0.0 0.0035000000000999995 0.009" rpy="0.0 0.0 0.0"/>
      <axis xyz="1.0 0.0 0.0"/>
      <limit lower="-0.093" upper="0.682" effort="100" velocity="100"/>
   </joint>
   <joint type="fixed" name="ring_mp2dp_offset">
      <parent link="ring_mp2dp_jointbody"/>
      <child link="ring_dp"/>
      <origin xyz="-0.0 -0.0035000000000999995 -0.0" rpy="0.0 0.0 0.0"/>
   </joint>
   <link name="ring_fingertip">
      <inertial>
         <origin xyz="0.0 0.0 0.01" rpy="0.0 0.0 0.0"/>
         <mass value="0.0"/>
         <inertia ixx="0.0" iyy="0.0" izz="0.0" ixy="0" ixz="0" iyz="0"/>
      </inertial>
   </link>
   <link name="ring_dp2ring_fingertip_fixed_jointbody">
      <inertial>
         <origin xyz="0.0 0.0 0.0" rpy="0.0 0.0 0.0"/>
         <mass value="0.001"/>
         <inertia ixx="1e-09" iyy="1e-09" izz="1e-09" ixy="0" ixz="0" iyz="0"/>
      </inertial>
   </link>
   <joint type="fixed" name="ring_dp2ring_fingertip_fixed">
      <parent link="ring_dp"/>
      <child link="ring_dp2ring_fingertip_fixed_jointbody"/>
      <origin xyz="0.0 0.0 0.01" rpy="0.0 0.0 0.0"/>
   </joint>
   <joint type="fixed" name="ring_dp2ring_fingertip_fixed_offset">
      <parent link="ring_dp2ring_fingertip_fixed_jointbody"/>
      <child link="ring_fingertip"/>
      <origin xyz="-0.0 -0.0 -0.0" rpy="0.0 0.0 0.0"/>
   </joint>
   <link name="pinky_um_virt">
      <inertial>
         <origin xyz="0.0 0.0 0.0" rpy="0.0 0.0 0.0"/>
         <mass value="0.001"/>
         <inertia ixx="4e-10" iyy="4e-10" izz="3e-10" ixy="0" ixz="0" iyz="0"/>
      </inertial>
   </link>
   <link name="pinky_abd_virt_jointbody">
      <inertial>
         <origin xyz="0.0 0.0 0.0" rpy="0.0 0.0 0.0"/>
         <mass value="0.001"/>
         <inertia ixx="1e-09" iyy="1e-09" izz="1e-09" ixy="0" ixz="0" iyz="0"/>
      </inertial>
   </link>
   <joint type="revolute" name="pinky_abd_virt">
      <parent link="palm"/>
      <child link="pinky_abd_virt_jointbody"/>
      <origin xyz="-0.03931395 0.0815 0.0" rpy="-1.5707963267948966 1.5707963267948966 0.0"/>
      <axis xyz="1.0 0.0 0.0"/>
      <limit lower="-0.264" upper="0.264" effort="100" velocity="100"/>
   </joint>
   <joint type="fixed" name="pinky_abd_virt_offset">
      <parent link="pinky_abd_virt_jointbody"/>
      <child link="pinky_um_virt"/>
      <origin xyz="-0.0 -0.0 -0.0" rpy="0.0 0.0 0.0"/>
   </joint>
   <link name="pinky_um">
      <inertial>
         <origin xyz="0.0003137018308382922 -4.3327904489992575e-05 -0.003588735077300156" rpy="3.113495656532974 -1.2922565745690526 -3.099483256875682"/>
         <mass value="0.001706479287008203"/>
         <inertia ixx="4.090623492327608e-08" iyy="3.326893495119032e-08" izz="2.9518955384678924e-08" ixy="0" ixz="0" iyz="0"/>
      </inertial>
      <visual name="pinky_um">
         <origin xyz="0.0003137018308382922 -4.3327904489992575e-05 -0.003588735077300156" rpy="3.1134956565329746 -1.2922565745690526 -3.0994832568756823"/>
         <geometry>
            <mesh filename="package://viz/models/URDF_Simulation/converted_pinky_um.stl"/>
         </geometry>
         <material name="white"/>
      </visual>
   </link>
   <link name="pinky_abd_jointbody">
      <inertial>
         <origin xyz="0.0 0.0 0.0" rpy="0.0 0.0 0.0"/>
         <mass value="0.001"/>
         <inertia ixx="1e-09" iyy="1e-09" izz="1e-09" ixy="0" ixz="0" iyz="0"/>
      </inertial>
   </link>
   <joint type="revolute" name="pinky_abd">
      <parent link="pinky_um_virt"/>
      <child link="pinky_abd_jointbody"/>
      <origin xyz="0.0 0.0 0.018" rpy="0.0 0.0 0.0"/>
      <axis xyz="1.0 0.0 0.0"/>
      <limit lower="-0.264" upper="0.264" effort="100" velocity="100"/>
   </joint>
   <joint type="fixed" name="pinky_abd_offset">
      <parent link="pinky_abd_jointbody"/>
      <child link="pinky_um"/>
      <origin xyz="-0.0 -0.0 -0.0" rpy="0.0 0.0 0.0"/>
   </joint>
   <link name="pinky_pp_virt">
      <inertial>
         <origin xyz="0.0 0.0 0.0" rpy="0.0 0.0 0.0"/>
         <mass value="0.001"/>
         <inertia ixx="4e-10" iyy="4e-10" izz="3e-10" ixy="0" ixz="0" iyz="0"/>
      </inertial>
   </link>
   <link name="root2pinky_pp_virt_jointbody">
      <inertial>
         <origin xyz="0.0 0.0 0.0" rpy="0.0 0.0 0.0"/>
         <mass value="0.001"/>
         <inertia ixx="1e-09" iyy="1e-09" izz="1e-09" ixy="0" ixz="0" iyz="0"/>
      </inertial>
   </link>
   <joint type="revolute" name="root2pinky_pp_virt">
      <parent link="pinky_um"/>
      <child link="root2pinky_pp_virt_jointbody"/>
      <origin xyz="0.00270000102 5.9952065978308155e-19 -0.00743303472" rpy="0.0 0.0 -1.5707963267948963"/>
      <axis xyz="1.0 0.0 0.0"/>
      <limit lower="-0.157" upper="0.829" effort="100" velocity="100"/>
   </joint>
   <joint type="fixed" name="root2pinky_pp_virt_offset">
      <parent link="root2pinky_pp_virt_jointbody"/>
      <child link="pinky_pp_virt"/>
      <origin xyz="-0.0 -0.00270000102 -0.0" rpy="0.0 0.0 0.0"/>
   </joint>
   <link name="pinky_pp">
      <inertial>
         <origin xyz="-2.109461568381571e-05 0.000996163274490867 0.011153640747459392" rpy="-0.0005633739671052629 0.04664075180888805 1.5728100242694358"/>
         <mass value="0.006411007113106174"/>
         <inertia ixx="8.839796343393693e-07" iyy="8.605669091164771e-07" izz="1.4433356510402823e-07" ixy="0" ixz="0" iyz="0"/>
      </inertial>
      <visual name="pinky_pp">
         <origin xyz="-2.109461568381571e-05 0.000996163274490867 0.011153640747459392" rpy="-0.0005633739671052629 0.04664075180888805 1.5728100242694358"/>
         <geometry>
            <mesh filename="package://viz/models/URDF_Simulation/converted_pinky_pp.stl"/>
         </geometry>
         <material name="white"/>
      </visual>
   </link>
   <link name="root2pinky_pp_jointbody">
      <inertial>
         <origin xyz="0.0 0.0 0.0" rpy="0.0 0.0 0.0"/>
         <mass value="0.001"/>
         <inertia ixx="1e-09" iyy="1e-09" izz="1e-09" ixy="0" ixz="0" iyz="0"/>
      </inertial>
   </link>
   <joint type="revolute" name="root2pinky_pp">
      <parent link="pinky_pp_virt"/>
      <child link="root2pinky_pp_jointbody"/>
      <origin xyz="0.0 0.00250000102 0.018" rpy="0.0 0.0 0.0"/>
      <axis xyz="1.0 0.0 0.0"/>
      <limit lower="-0.157" upper="0.829" effort="100" velocity="100"/>
   </joint>
   <joint type="fixed" name="root2pinky_pp_offset">
      <parent link="root2pinky_pp_jointbody"/>
      <child link="pinky_pp"/>
      <origin xyz="-0.0 -0.00250000102 -0.0" rpy="0.0 0.0 0.0"/>
   </joint>
   <link name="pinky_pp_sens">
      <inertial>
         <origin xyz="0.0 -0.004 0.015" rpy="0.0 0.0 0.0"/>
         <mass value="0.0"/>
         <inertia ixx="0.0" iyy="0.0" izz="0.0" ixy="0" ixz="0" iyz="0"/>
      </inertial>
   </link>
   <link name="pinky_pp2pinky_pp_sens_fixed_jointbody">
      <inertial>
         <origin xyz="0.0 0.0 0.0" rpy="0.0 0.0 0.0"/>
         <mass value="0.001"/>
         <inertia ixx="1e-09" iyy="1e-09" izz="1e-09" ixy="0" ixz="0" iyz="0"/>
      </inertial>
   </link>
   <joint type="fixed" name="pinky_pp2pinky_pp_sens_fixed">
      <parent link="pinky_pp"/>
      <child link="pinky_pp2pinky_pp_sens_fixed_jointbody"/>
      <origin xyz="0.0 -0.004 0.015" rpy="0.0 0.0 0.0"/>
   </joint>
   <joint type="fixed" name="pinky_pp2pinky_pp_sens_fixed_offset">
      <parent link="pinky_pp2pinky_pp_sens_fixed_jointbody"/>
      <child link="pinky_pp_sens"/>
      <origin xyz="-0.0 -0.0 -0.0" rpy="0.0 0.0 0.0"/>
   </joint>
   <link name="pinky_mp_virt">
      <inertial>
         <origin xyz="0.0 0.0 0.0" rpy="0.0 0.0 0.0"/>
         <mass value="0.001"/>
         <inertia ixx="4e-10" iyy="4e-10" izz="3e-10" ixy="0" ixz="0" iyz="0"/>
      </inertial>
   </link>
   <link name="pinky_pp2mp_virt_jointbody">
      <inertial>
         <origin xyz="0.0 0.0 0.0" rpy="0.0 0.0 0.0"/>
         <mass value="0.001"/>
         <inertia ixx="1e-09" iyy="1e-09" izz="1e-09" ixy="0" ixz="0" iyz="0"/>
      </inertial>
   </link>
   <joint type="revolute" name="pinky_pp2mp_virt">
      <parent link="pinky_pp"/>
      <child link="pinky_pp2mp_virt_jointbody"/>
      <origin xyz="0.0 0.00370000102 0.02701851213434598" rpy="0.0 0.0 0.0"/>
      <axis xyz="1.0 0.0 0.0"/>
      <limit lower="-0.131" upper="0.96" effort="100" velocity="100"/>
   </joint>
   <joint type="fixed" name="pinky_pp2mp_virt_offset">
      <parent link="pinky_pp2mp_virt_jointbody"/>
      <child link="pinky_mp_virt"/>
      <origin xyz="-0.0 -0.00370000102 -0.0" rpy="0.0 0.0 0.0"/>
   </joint>
   <link name="pinky_mp">
      <inertial>
         <origin xyz="-5.650322932876373e-05 0.0022775589837975138 0.009212500242364308" rpy="0.004881996418440782 0.005874182493044833 1.5691948119058772"/>
         <mass value="0.0035266787657145257"/>
         <inertia ixx="2.591198468813237e-07" iyy="2.327720232400065e-07" izz="6.529283109208708e-08" ixy="0" ixz="0" iyz="0"/>
      </inertial>
      <visual name="pinky_mp">
         <origin xyz="-5.650322932876373e-05 0.0022775589837975138 0.009212500242364308" rpy="0.004881996418440782 0.005874182493044833 1.569194811905877"/>
         <geometry>
            <mesh filename="package://viz/models/URDF_Simulation/converted_pinky_mp.stl"/>
         </geometry>
         <material name="white"/>
      </visual>
   </link>
   <link name="pinky_pp2mp_jointbody">
      <inertial>
         <origin xyz="0.0 0.0 0.0" rpy="0.0 0.0 0.0"/>
         <mass value="0.001"/>
         <inertia ixx="1e-09" iyy="1e-09" izz="1e-09" ixy="0" ixz="0" iyz="0"/>
      </inertial>
   </link>
   <joint type="revolute" name="pinky_pp2mp">
      <parent link="pinky_mp_virt"/>
      <child link="pinky_pp2mp_jointbody"/>
      <origin xyz="0.0 0.00350000102 0.011999999999999999" rpy="0.0 0.0 0.0"/>
      <axis xyz="1.0 0.0 0.0"/>
      <limit lower="-0.131" upper="0.96" effort="100" velocity="100"/>
   </joint>
   <joint type="fixed" name="pinky_pp2mp_offset">
      <parent link="pinky_pp2mp_jointbody"/>
      <child link="pinky_mp"/>
      <origin xyz="-0.0 -0.00350000102 -0.0" rpy="0.0 0.0 0.0"/>
   </joint>
   <link name="pinky_dp_virt">
      <inertial>
         <origin xyz="0.0 0.0 0.0" rpy="0.0 0.0 0.0"/>
         <mass value="0.001"/>
         <inertia ixx="4e-10" iyy="4e-10" izz="3e-10" ixy="0" ixz="0" iyz="0"/>
      </inertial>
   </link>
   <link name="pinky_mp2dp_virt_jointbody">
      <inertial>
         <origin xyz="0.0 0.0 0.0" rpy="0.0 0.0 0.0"/>
         <mass value="0.001"/>
         <inertia ixx="1e-09" iyy="1e-09" izz="1e-09" ixy="0" ixz="0" iyz="0"/>
      </inertial>
   </link>
   <joint type="revolute" name="pinky_mp2dp_virt">
      <parent link="pinky_mp"/>
      <child link="pinky_mp2dp_virt_jointbody"/>
      <origin xyz="0.0 0.00370000102 0.0195" rpy="0.0 0.0 0.0"/>
      <axis xyz="1.0 0.0 0.0"/>
      <limit lower="-0.093" upper="0.682" effort="100" velocity="100"/>
   </joint>
   <joint type="fixed" name="pinky_mp2dp_virt_offset">
      <parent link="pinky_mp2dp_virt_jointbody"/>
      <child link="pinky_dp_virt"/>
      <origin xyz="-0.0 -0.00370000102 -0.0" rpy="0.0 0.0 0.0"/>
   </joint>
   <link name="pinky_dp">
      <inertial>
         <origin xyz="-7.350958926732876e-06 0.0032238257911780463 0.007640724715587549" rpy="0.0038160751754089395 0.053495156395318766 1.57056799955947"/>
         <mass value="0.002076623300267396"/>
         <inertia ixx="1.0632503961582051e-07" iyy="9.094510215249103e-08" izz="2.870836456430631e-08" ixy="0" ixz="0" iyz="0"/>
      </inertial>
      <visual name="pinky_dp">
         <origin xyz="-7.350958926732876e-06 0.0032238257911780463 0.007640724715587549" rpy="0.0038160751754089395 0.053495156395318766 1.57056799955947"/>
         <geometry>
            <mesh filename="package://viz/models/URDF_Simulation/converted_pinky_dp.stl"/>
         </geometry>
         <material name="white"/>
      </visual>
   </link>
   <link name="pinky_mp2dp_jointbody">
      <inertial>
         <origin xyz="0.0 0.0 0.0" rpy="0.0 0.0 0.0"/>
         <mass value="0.001"/>
         <inertia ixx="1e-09" iyy="1e-09" izz="1e-09" ixy="0" ixz="0" iyz="0"/>
      </inertial>
   </link>
   <joint type="revolute" name="pinky_mp2dp">
      <parent link="pinky_dp_virt"/>
      <child link="pinky_mp2dp_jointbody"/>
      <origin xyz="0.0 0.00350000102 0.008999999999999998" rpy="0.0 0.0 0.0"/>
      <axis xyz="1.0 0.0 0.0"/>
      <limit lower="-0.093" upper="0.682" effort="100" velocity="100"/>
   </joint>
   <joint type="fixed" name="pinky_mp2dp_offset">
      <parent link="pinky_mp2dp_jointbody"/>
      <child link="pinky_dp"/>
      <origin xyz="-0.0 -0.00350000102 -0.0" rpy="0.0 0.0 0.0"/>
   </joint>
   <link name="pinky_fingertip">
      <inertial>
         <origin xyz="0.0 0.0 0.01" rpy="0.0 0.0 0.0"/>
         <mass value="0.0"/>
         <inertia ixx="0.0" iyy="0.0" izz="0.0" ixy="0" ixz="0" iyz="0"/>
      </inertial>
   </link>
   <link name="pinky_dp2pinky_fingertip_fixed_jointbody">
      <inertial>
         <origin xyz="0.0 0.0 0.0" rpy="0.0 0.0 0.0"/>
         <mass value="0.001"/>
         <inertia ixx="1e-09" iyy="1e-09" izz="1e-09" ixy="0" ixz="0" iyz="0"/>
      </inertial>
   </link>
   <joint type="fixed" name="pinky_dp2pinky_fingertip_fixed">
      <parent link="pinky_dp"/>
      <child link="pinky_dp2pinky_fingertip_fixed_jointbody"/>
      <origin xyz="0.0 0.0 0.01" rpy="0.0 0.0 0.0"/>
   </joint>
   <joint type="fixed" name="pinky_dp2pinky_fingertip_fixed_offset">
      <parent link="pinky_dp2pinky_fingertip_fixed_jointbody"/>
      <child link="pinky_fingertip"/>
      <origin xyz="-0.0 -0.0 -0.0" rpy="0.0 0.0 0.0"/>
   </joint>
   <material name="white">
      <color rgba="1 1 1 1"/>
   </material>
</robot>
